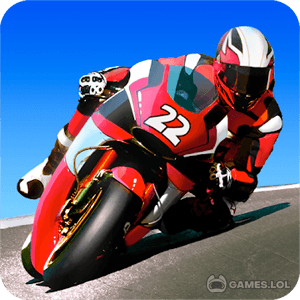bike: (27, 45, 277, 271)
